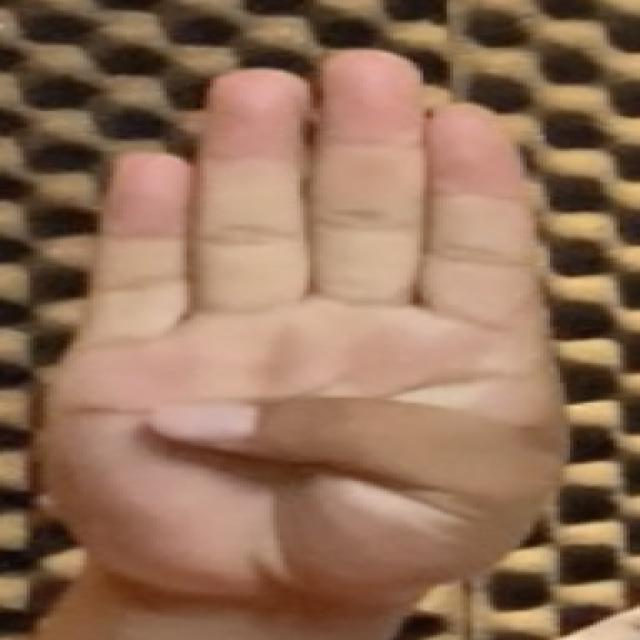B: (28, 45, 586, 605)
